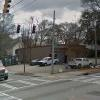Crosswalk: (7, 69, 99, 86)
